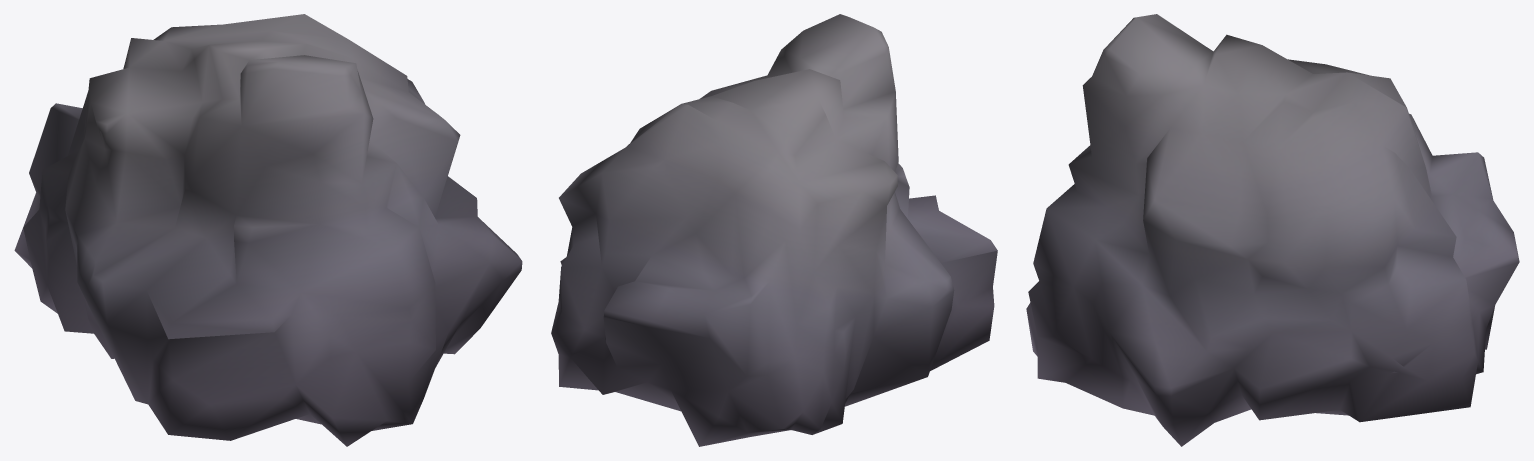
File: rock.003.fbx
3 views of the same model, side by side, from view 1: azimuth 30°, elevation 25°; view 2: azimuth 150°, elevation 25°; view 3: azimuth 270°, elevation 25° (orthographic). The views are drawn at different scales.
Parts seen in each view (by area): view 1: rock.003; view 2: rock.003; view 3: rock.003.
Part boxes in pixels (x1,y1,x2,y2): rock.003: [14, 14, 522, 446]; rock.003: [551, 14, 997, 446]; rock.003: [1026, 14, 1519, 446].
Bounding box in the file's own units: 491 × 428 × 564.
